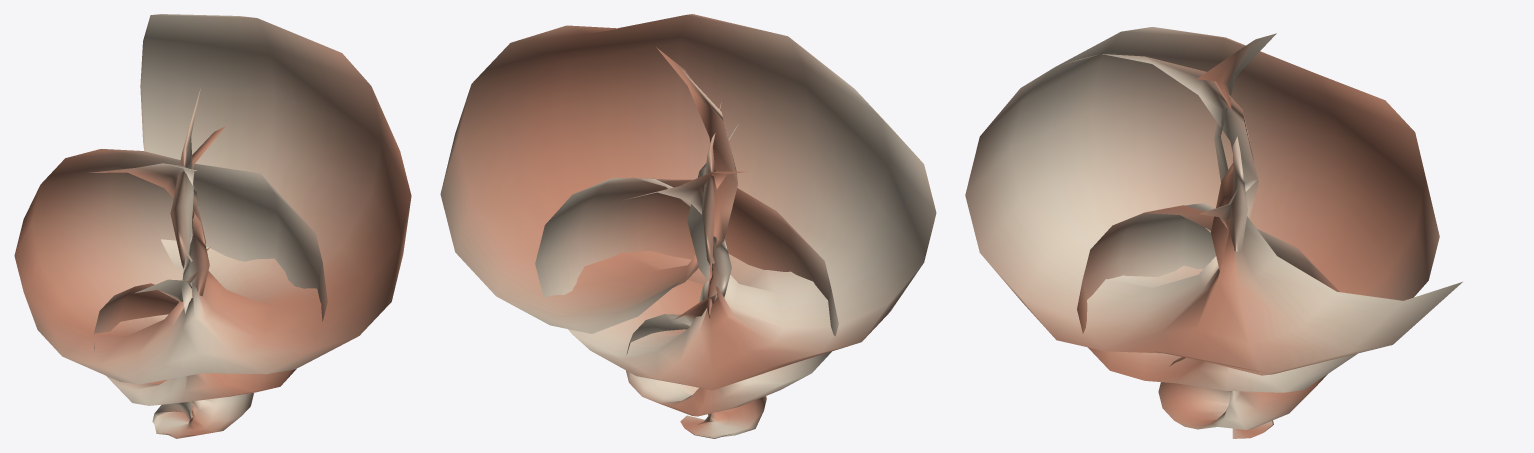
File: shell_01.glb
3 renders of one model, left to right at view 1: azimuth 30°, elevation 25°; view 2: azimuth 150°, elevation 25°; view 3: azimuth 270°, elevation 25°, orthographic. The views are drawn at different scales.
Visible parts, largest first — view 1: Shell_01; view 2: Shell_01; view 3: Shell_01.
Part boxes in pixels (x1=…): Shell_01: x1=14, y1=14, x2=411, y2=438; Shell_01: x1=440, y1=14, x2=936, y2=438; Shell_01: x1=965, y1=27, x2=1462, y2=438.
Size of the model in its own units: 0.1258 by 0.1108 by 0.1304.
1 material, 1 textured.
